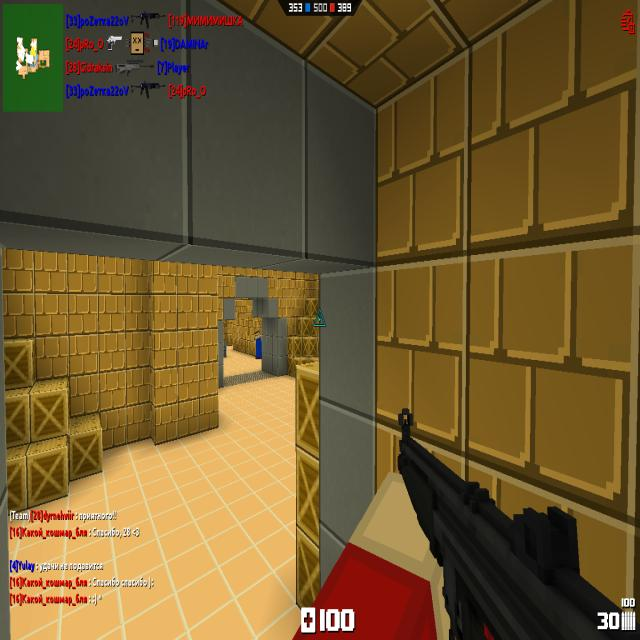enemy: (254, 330, 262, 358)
